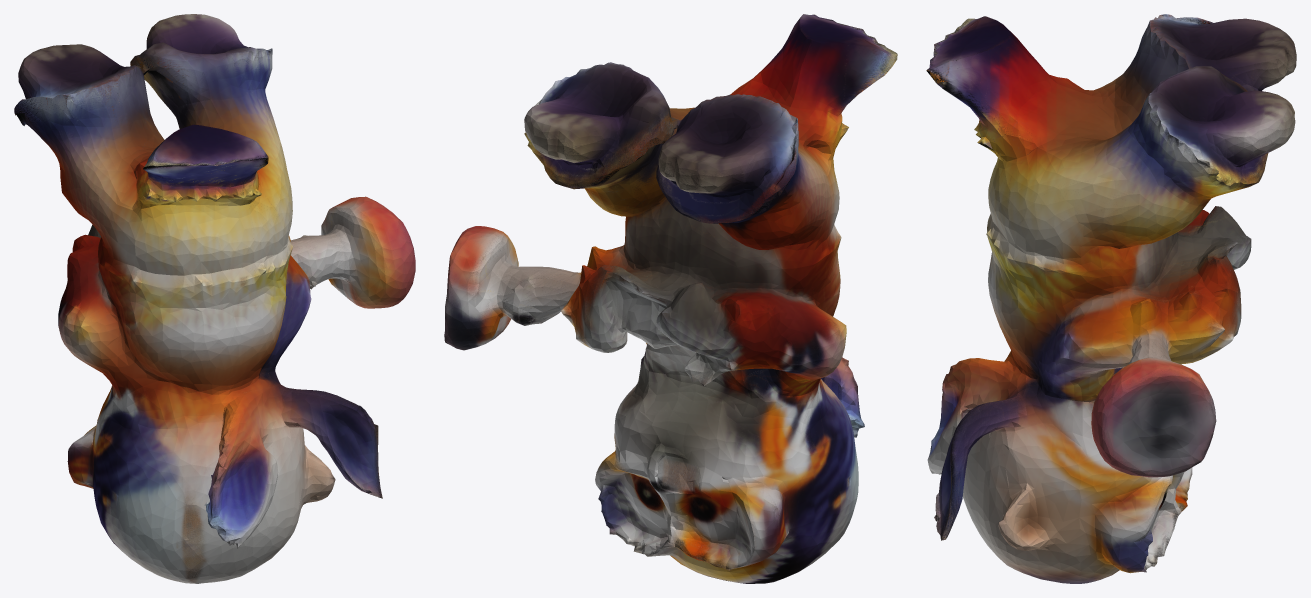
The model's file is edited.glb.
3 renders of one model, left to right at view 1: azimuth 30°, elevation 25°; view 2: azimuth 150°, elevation 25°; view 3: azimuth 270°, elevation 25°, orthographic. The views are drawn at different scales.
Visible parts, largest first — view 1: world; view 2: world; view 3: world.
Boxes of the visible parts, x1,y1,x2,y2 form: world: [14, 14, 415, 583]; world: [444, 14, 897, 583]; world: [926, 14, 1296, 583].
Size of the model in its own units: 0.7139 by 0.9339 by 0.6116.
1 material, 1 textured.
